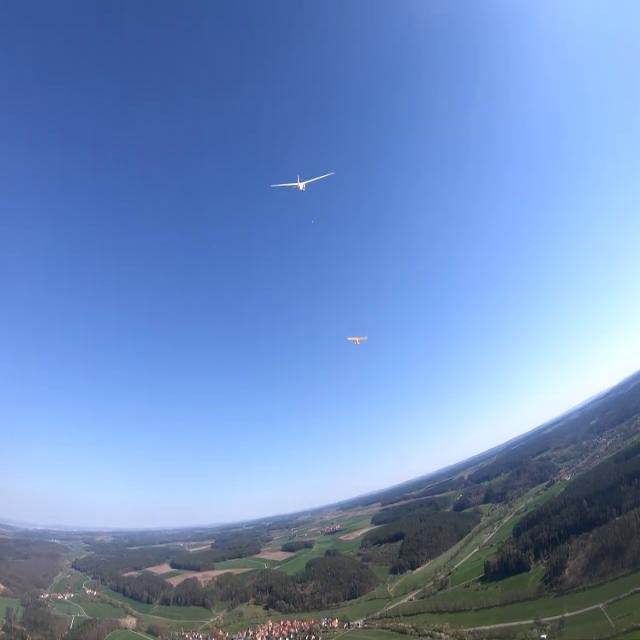iha: (350, 337, 370, 342), (301, 170, 302, 193)
